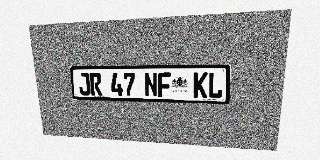4: (110, 73, 123, 96)
7: (123, 72, 136, 96)
F: (158, 72, 171, 97)
J: (78, 73, 91, 96)
K: (193, 72, 208, 98)
L: (208, 72, 223, 98)
N: (144, 72, 157, 97)
R: (89, 73, 102, 96)
